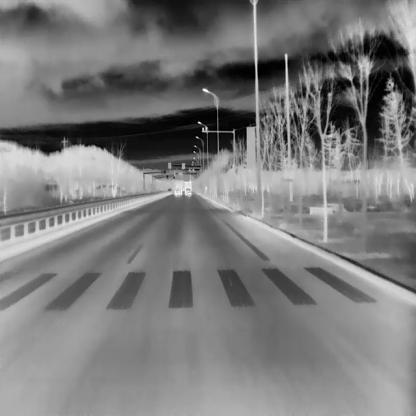car: (184, 181, 191, 194), (175, 182, 181, 194), (184, 188, 191, 195), (174, 188, 180, 195)
